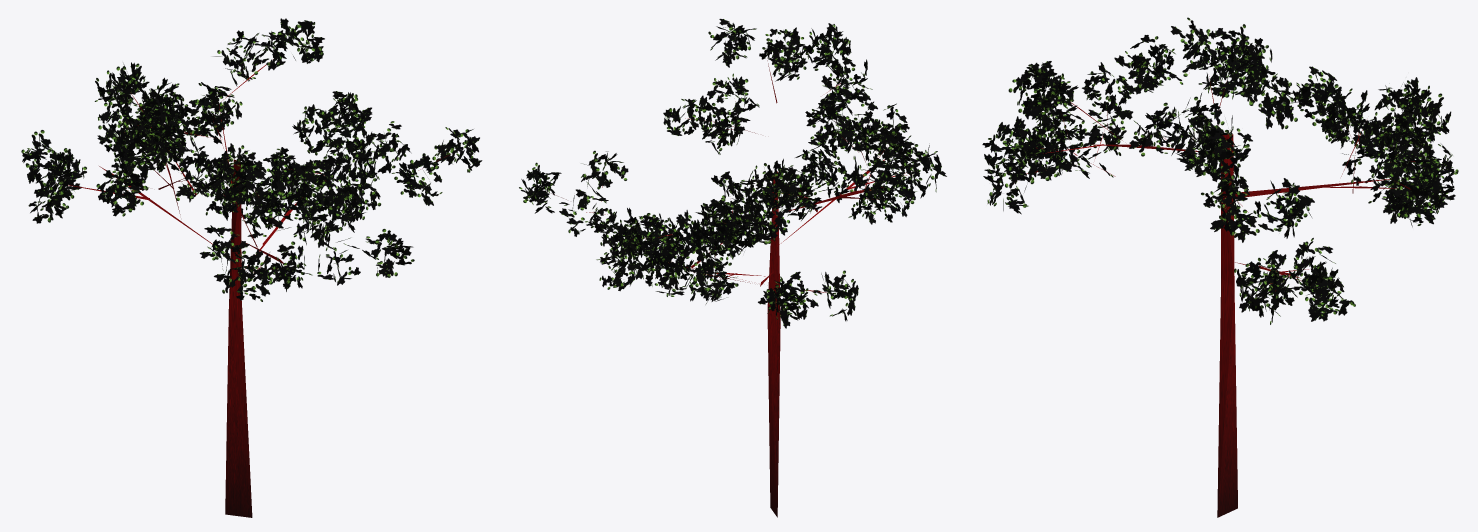
The model's file is pine_open_v02_LOD2.glb.
3 renders of one model, left to right at view 1: azimuth 30°, elevation 25°; view 2: azimuth 150°, elevation 25°; view 3: azimuth 270°, elevation 25°, orthographic. The views are drawn at different scales.
Parts seen in each view (by area): view 1: pine_open_v02_LOD2; view 2: pine_open_v02_LOD2; view 3: pine_open_v02_LOD2.
Boxes of the visible parts, left/top/right/bottom form: pine_open_v02_LOD2: left=21, top=18, right=482, bottom=517; pine_open_v02_LOD2: left=519, top=18, right=946, bottom=517; pine_open_v02_LOD2: left=982, top=17, right=1458, bottom=517.
Bounding box in the file's own units: 16.16 × 20.9 × 19.63.
2 materials, 2 textured.
